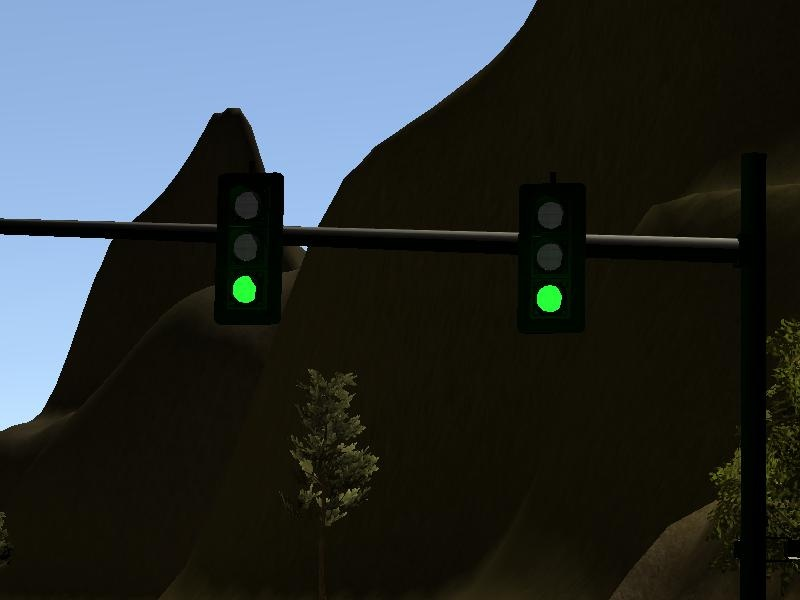GREEN: (212, 173, 285, 324), (514, 180, 587, 331)
